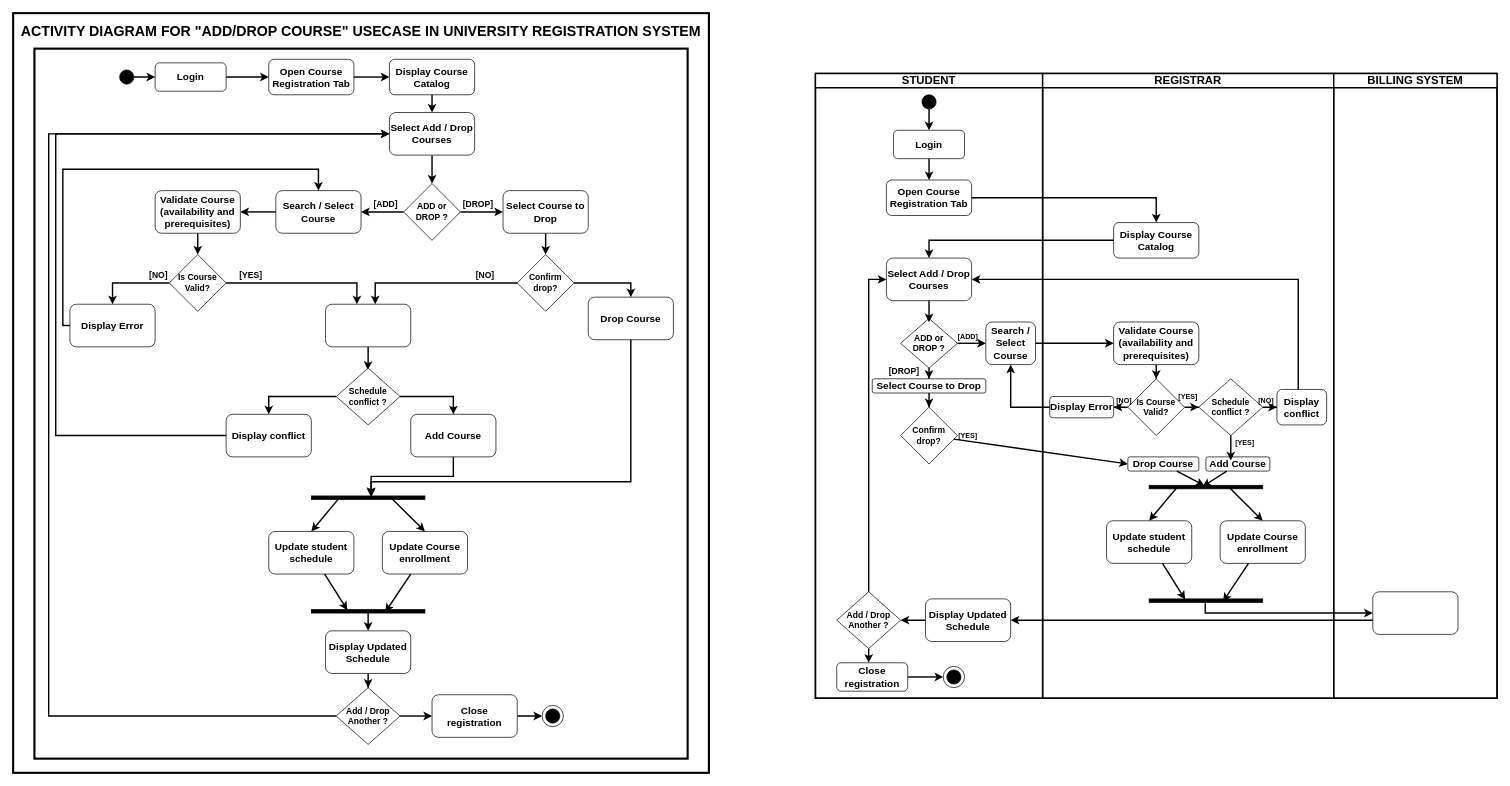
Image size: 1510x786. Some labels were removed from this diagram. The centre of each missing label's shape, as x and y in pixels:
Check Schedule Conflict: the point at 368,325
Update Student Bill: the point at 1415,612
